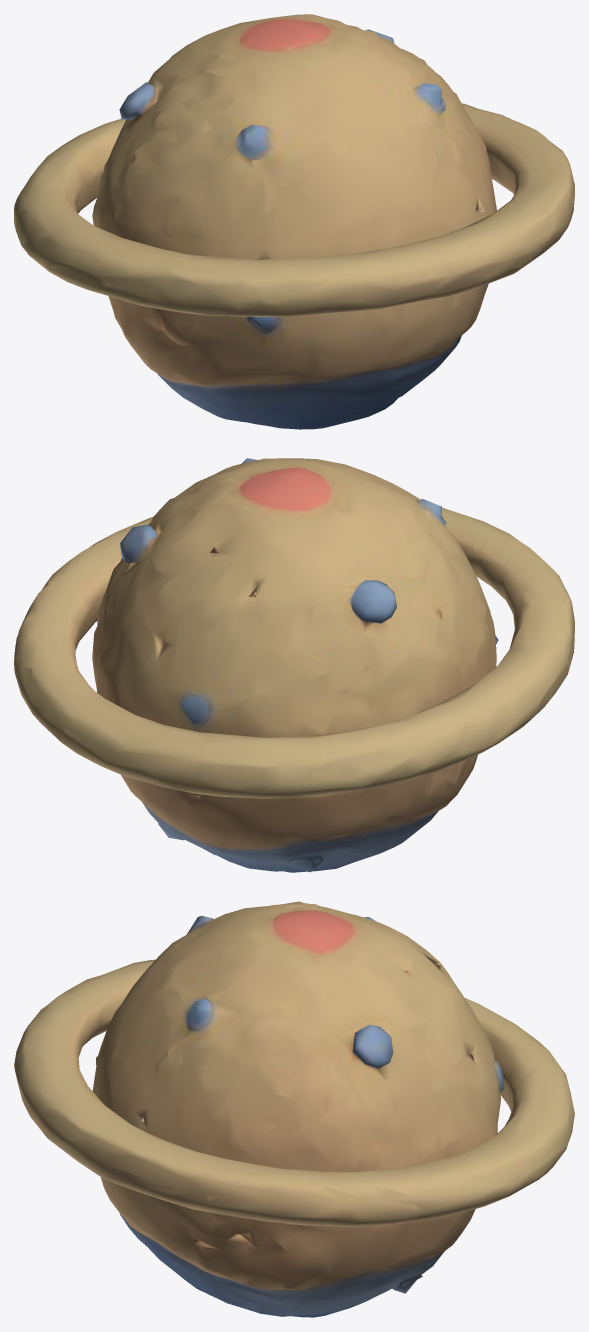
The model's file is planet.glb.
The picture shows the model from 3 angles, top to bottom: view 1: azimuth 30°, elevation 25°; view 2: azimuth 150°, elevation 25°; view 3: azimuth 270°, elevation 25°; orthographic projection.
Visible parts, largest first — view 1: tripo_node_5d1bcc78-fd2b-4886-938c-1f6de531b804; view 2: tripo_node_5d1bcc78-fd2b-4886-938c-1f6de531b804; view 3: tripo_node_5d1bcc78-fd2b-4886-938c-1f6de531b804.
Part boxes in pixels (bbox=[...]): tripo_node_5d1bcc78-fd2b-4886-938c-1f6de531b804: bbox=[14, 14, 574, 429]; tripo_node_5d1bcc78-fd2b-4886-938c-1f6de531b804: bbox=[14, 458, 574, 872]; tripo_node_5d1bcc78-fd2b-4886-938c-1f6de531b804: bbox=[14, 901, 574, 1317].
Size of the model in its own units: 0.9989 by 0.7438 by 1.
1 material, 1 textured.
